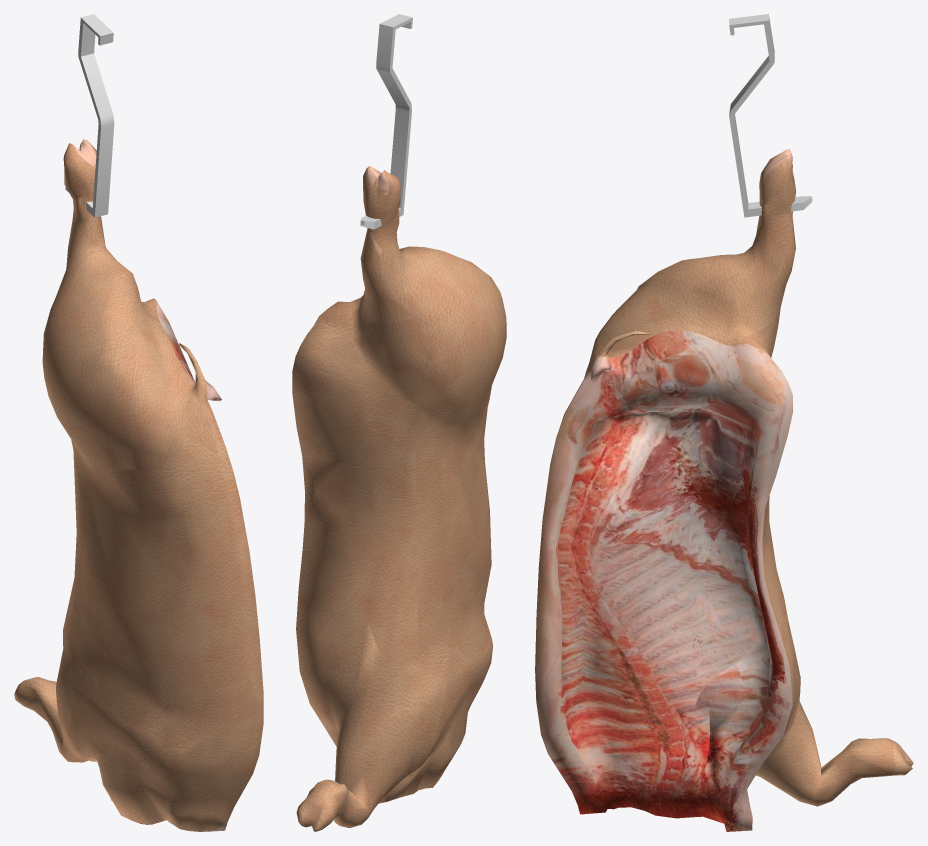
File: carcass_pig.glb
The picture shows the model from 3 angles, left to right: view 1: azimuth 30°, elevation 25°; view 2: azimuth 150°, elevation 25°; view 3: azimuth 270°, elevation 25°; orthographic projection. The views are drawn at different scales.
Parts seen in each view (by area): view 1: Object_9, Object_4; view 2: Object_9, Object_4; view 3: Object_9, Object_4.
Boxes of the visible parts, bbox=[...] form: Object_9: bbox=[14, 139, 263, 831]; Object_4: bbox=[65, 14, 114, 217]; Object_9: bbox=[292, 166, 506, 831]; Object_4: bbox=[360, 14, 412, 229]; Object_9: bbox=[535, 149, 913, 831]; Object_4: bbox=[729, 14, 812, 217].
Bounding box in the file's own units: 0.4462 × 2.21 × 0.959.
Materials: 2 (1 with a texture image).
